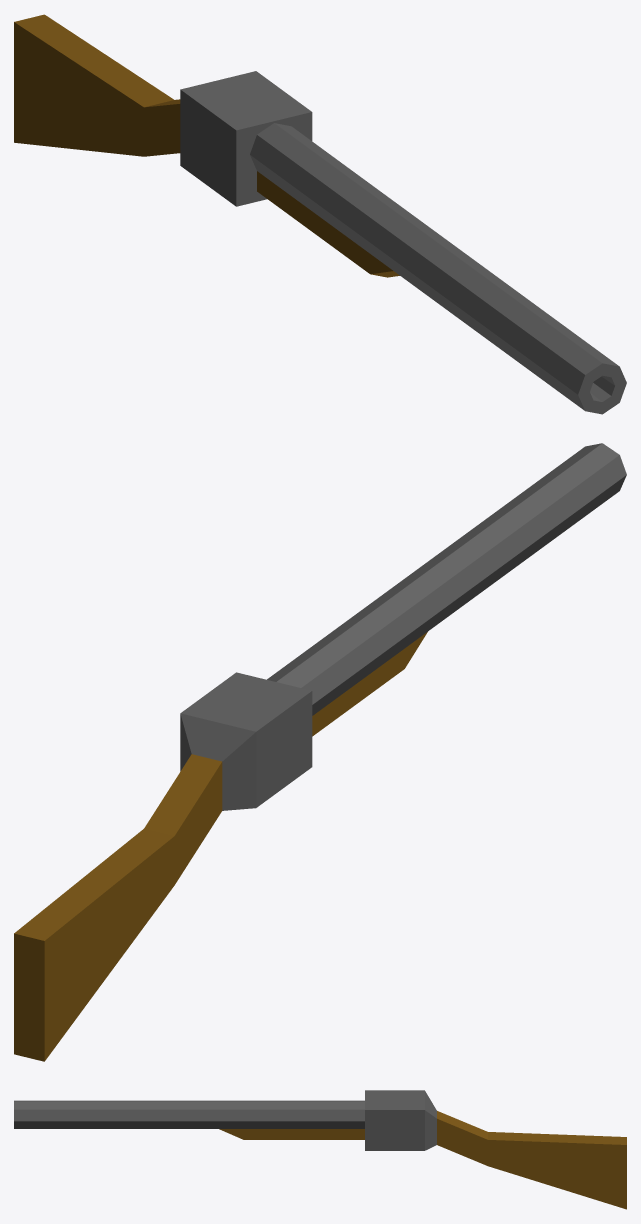
File: ChonkyGun.fbx
The picture shows the model from 3 angles, top to bottom: view 1: azimuth 30°, elevation 25°; view 2: azimuth 150°, elevation 25°; view 3: azimuth 270°, elevation 25°; orthographic projection. The views are drawn at different scales.
Visible parts, largest first — view 1: Cube.001; view 2: Cube.001; view 3: Cube.001.
Part boxes in pixels (<box>): Cube.001: <box>14,14,626,414</box>; Cube.001: <box>14,443,626,1061</box>; Cube.001: <box>14,1090,626,1209</box>.
Bounding box in the file's own units: 38.67 × 96.09 × 506.
